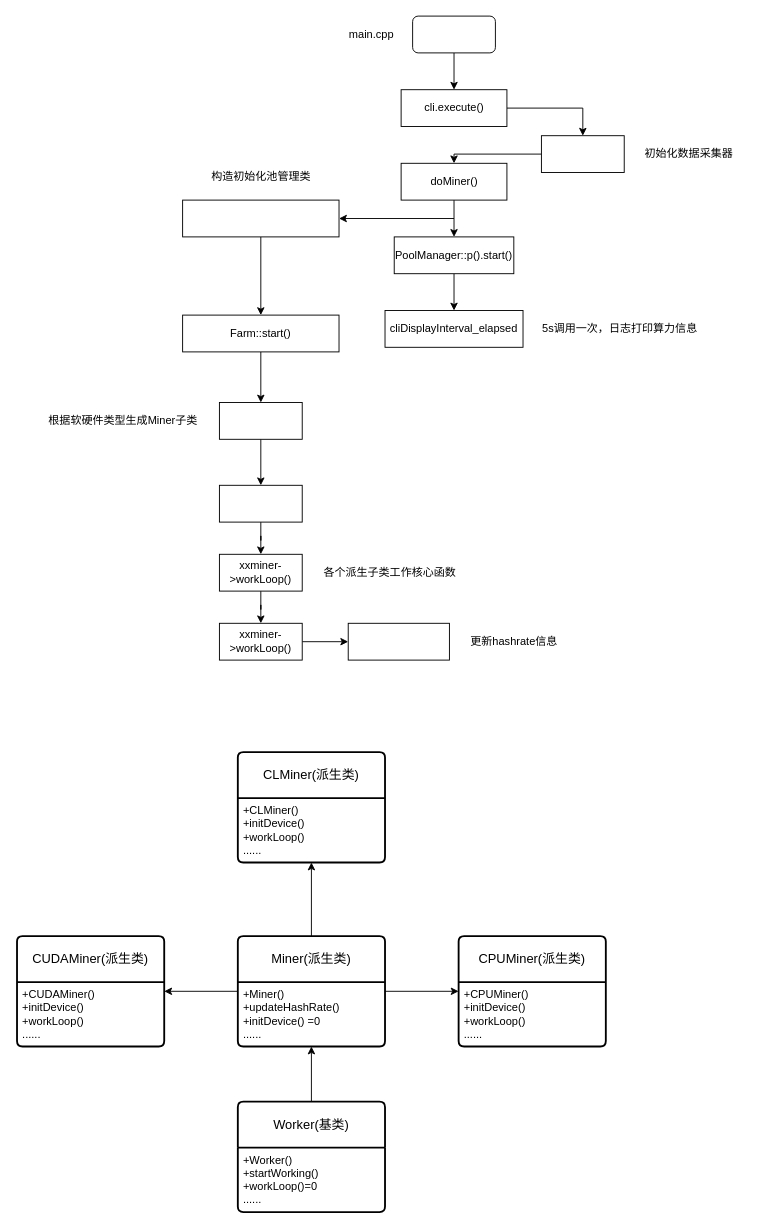
This 759x1229 diagram has some shape labels left out. The shapes that lost their labels are listed below. From the top down, each one's centre as x and y in pixels, then its label:
pixel 453 34: main()
pixel 582 153: Farm::Farm()
pixel 260 218: PoolManager::PoolManager()
pixel 260 420: new xxxMiner()
pixel 260 503: xxminer->startWorking
pixel 398 641: updateHashRate()
